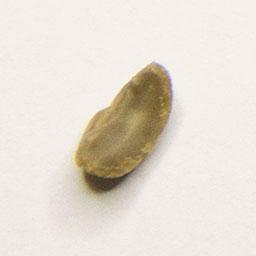defect: (70, 57, 176, 184)
